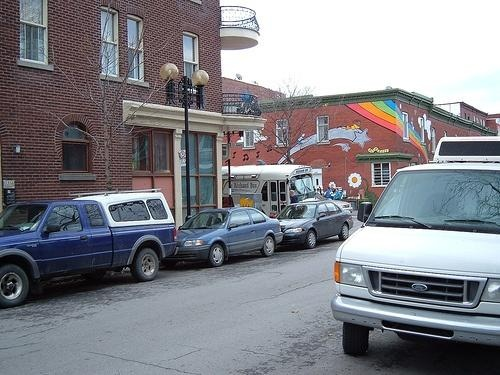bus: (223, 166, 316, 218)
car: (335, 140, 500, 359), (4, 195, 178, 310), (174, 207, 286, 266), (275, 202, 354, 248)
